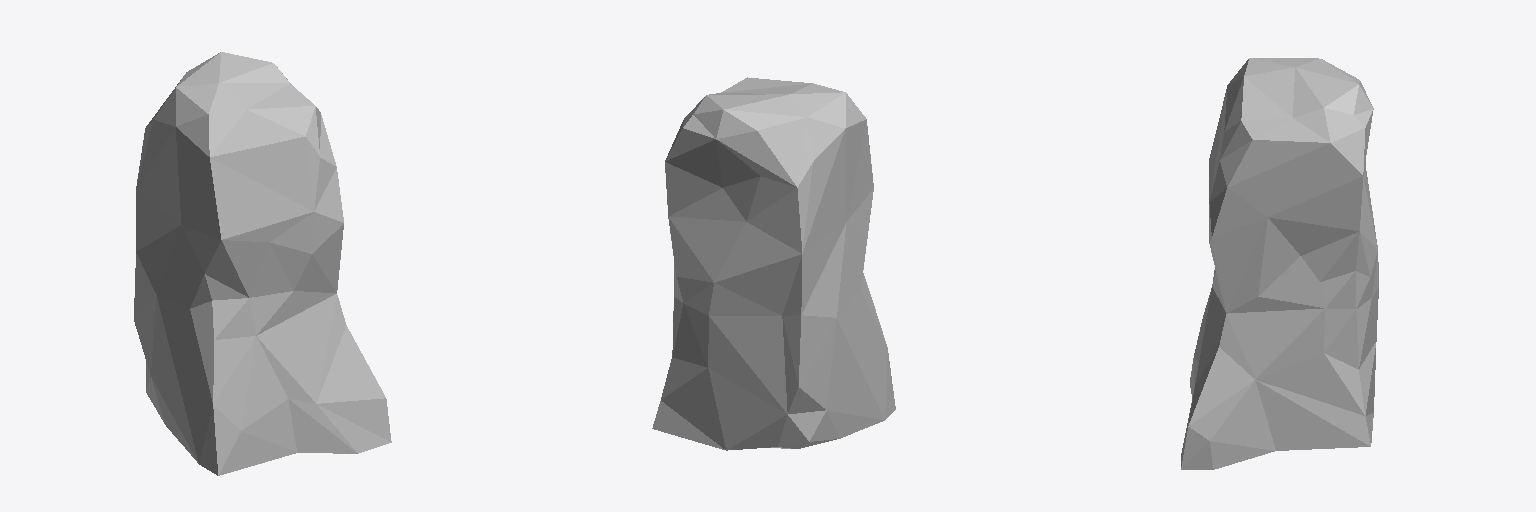
Rendered from huge_rock3.obj.
3 renders of one model, left to right at view 1: azimuth 30°, elevation 25°; view 2: azimuth 150°, elevation 25°; view 3: azimuth 270°, elevation 25°, orthographic.
Parts seen in each view (by area): view 1: BigRock1_Cube.008; view 2: BigRock1_Cube.008; view 3: BigRock1_Cube.008.
Boxes of the visible parts, <box> form: BigRock1_Cube.008: <box>134,52,391,475</box>; BigRock1_Cube.008: <box>652,77,895,450</box>; BigRock1_Cube.008: <box>1181,58,1378,469</box>.
Bounding box in the file's own units: 3.9 × 7.48 × 3.85.